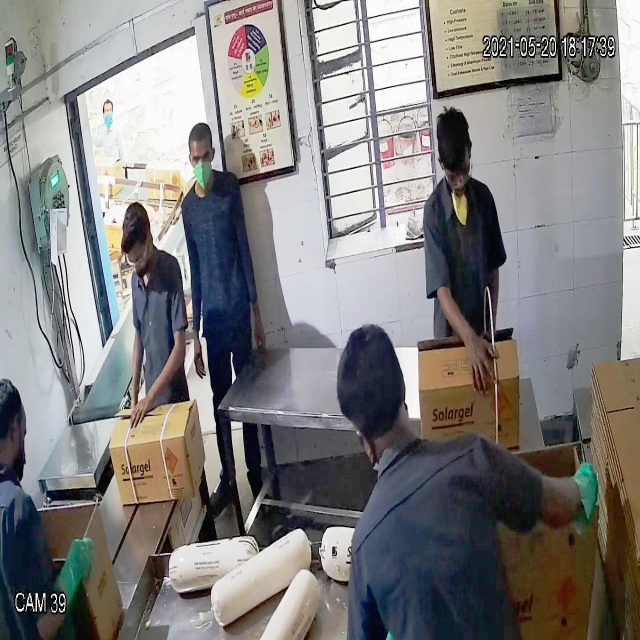Gafas: (119, 243, 154, 274), (437, 157, 472, 185)
Sin_gafas: (186, 145, 215, 170)
